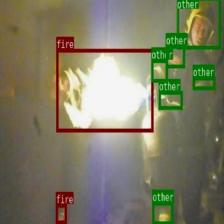fire: (56, 48, 153, 132), (56, 204, 66, 222)
